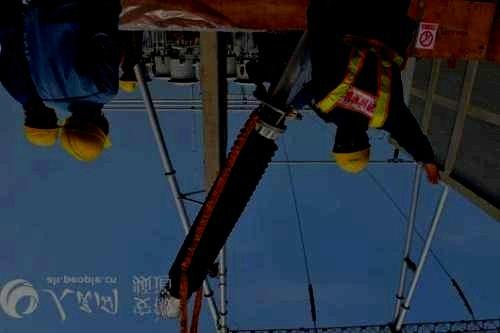helmet: (60, 108, 113, 165), (330, 124, 371, 174), (22, 105, 64, 147), (118, 70, 138, 93)
